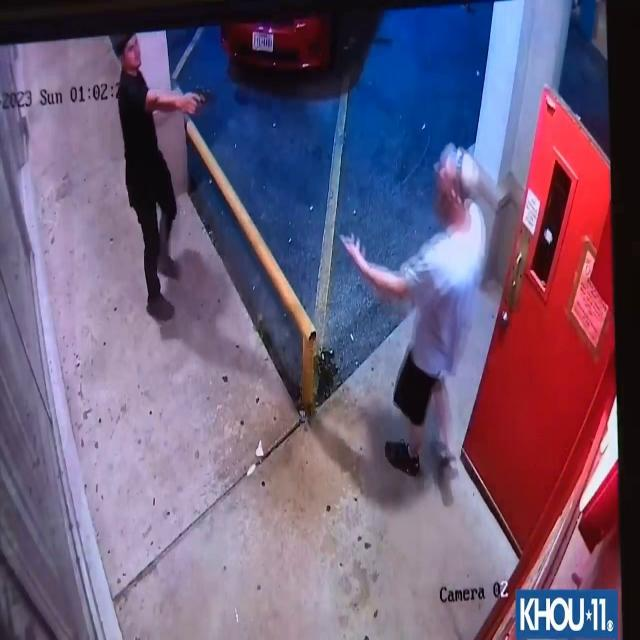normal: (338, 138, 488, 482)
penembakan: (109, 32, 209, 337)
